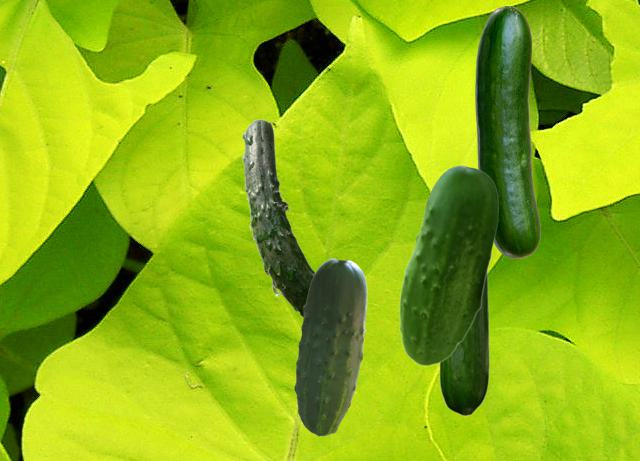cucumber: (399, 165, 497, 365), (475, 6, 539, 257), (241, 119, 314, 317), (294, 258, 366, 435), (438, 271, 489, 415)
